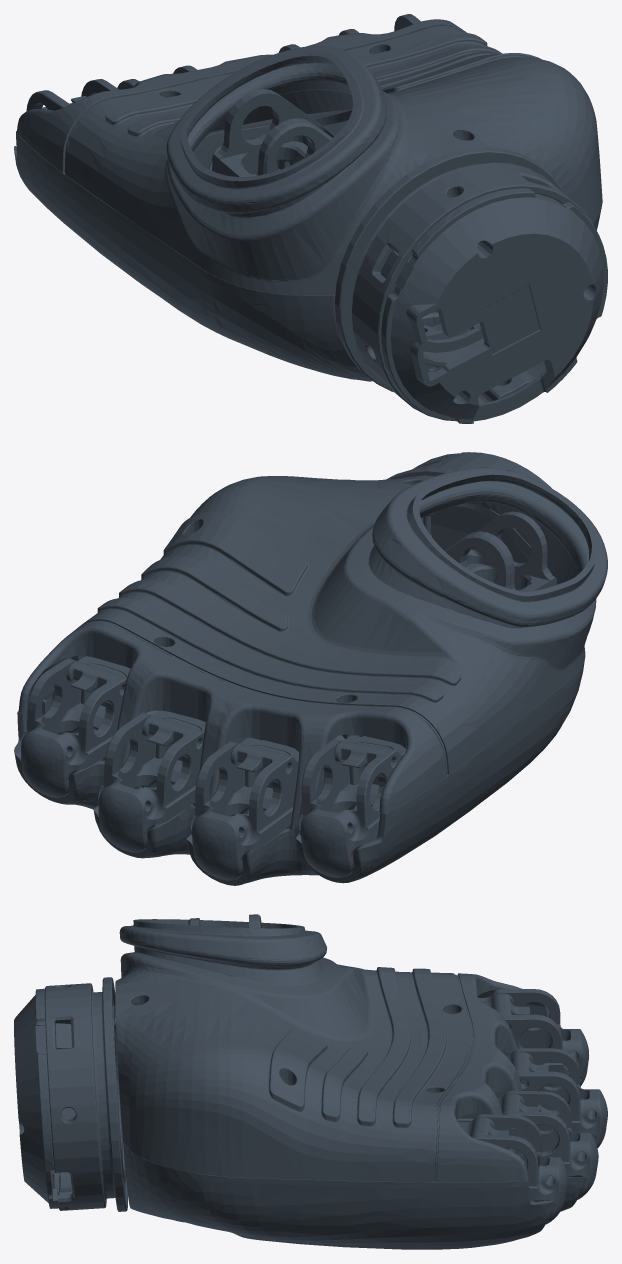
3 renders of one model, top to bottom at view 1: azimuth 30°, elevation 25°; view 2: azimuth 150°, elevation 25°; view 3: azimuth 270°, elevation 25°, orthographic. The views are drawn at different scales.
Visible parts, largest first — view 1: L_base_link; view 2: L_base_link; view 3: L_base_link.
Boxes of the visible parts, x1=… form: L_base_link: x1=14, y1=14, x2=607, y2=423; L_base_link: x1=14, y1=452, x2=607, y2=885; L_base_link: x1=14, y1=914, x2=607, y2=1249.
Size of the model in its own units: 0.0884 by 0.1265 by 0.0608.
